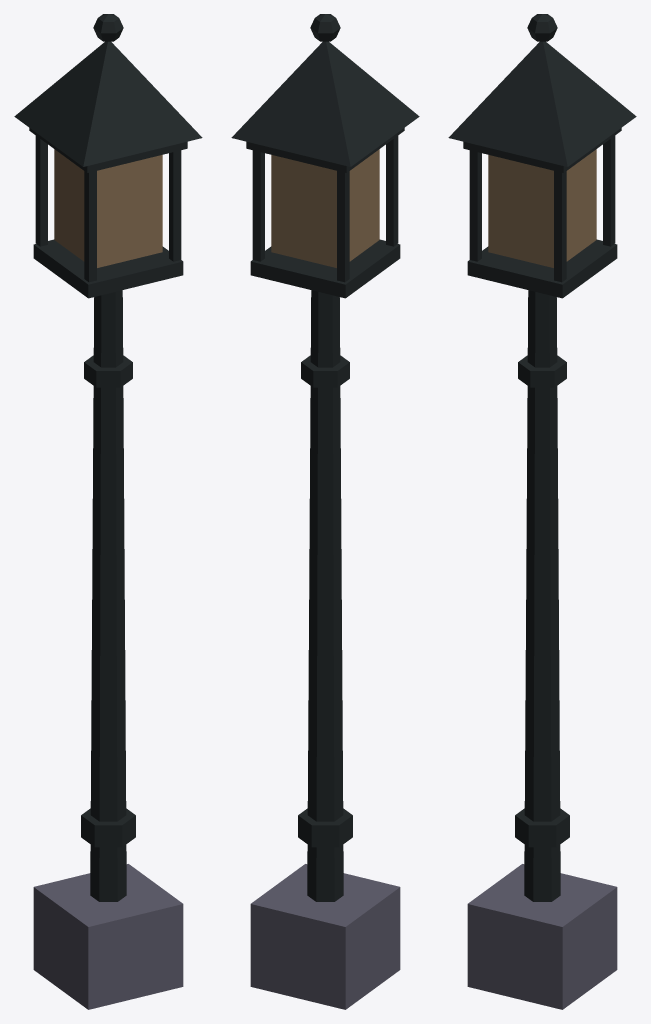
File: felinar_conac.glb
3 views of the same model, side by side, from view 1: azimuth 30°, elevation 25°; view 2: azimuth 150°, elevation 25°; view 3: azimuth 330°, elevation 25° (orthographic).
Visible parts, largest first — view 1: Felinar, Lumini; view 2: Felinar, Lumini; view 3: Felinar, Lumini.
Part boxes in pixels (x1,y1,x2,y2): Felinar: (14, 14, 202, 1009); Lumini: (54, 149, 162, 267); Felinar: (231, 14, 419, 1009); Lumini: (271, 149, 379, 267); Felinar: (448, 14, 636, 1009); Lumini: (488, 149, 596, 267).
Bounding box in the file's own units: 0.4525 × 3.49 × 0.4525.
